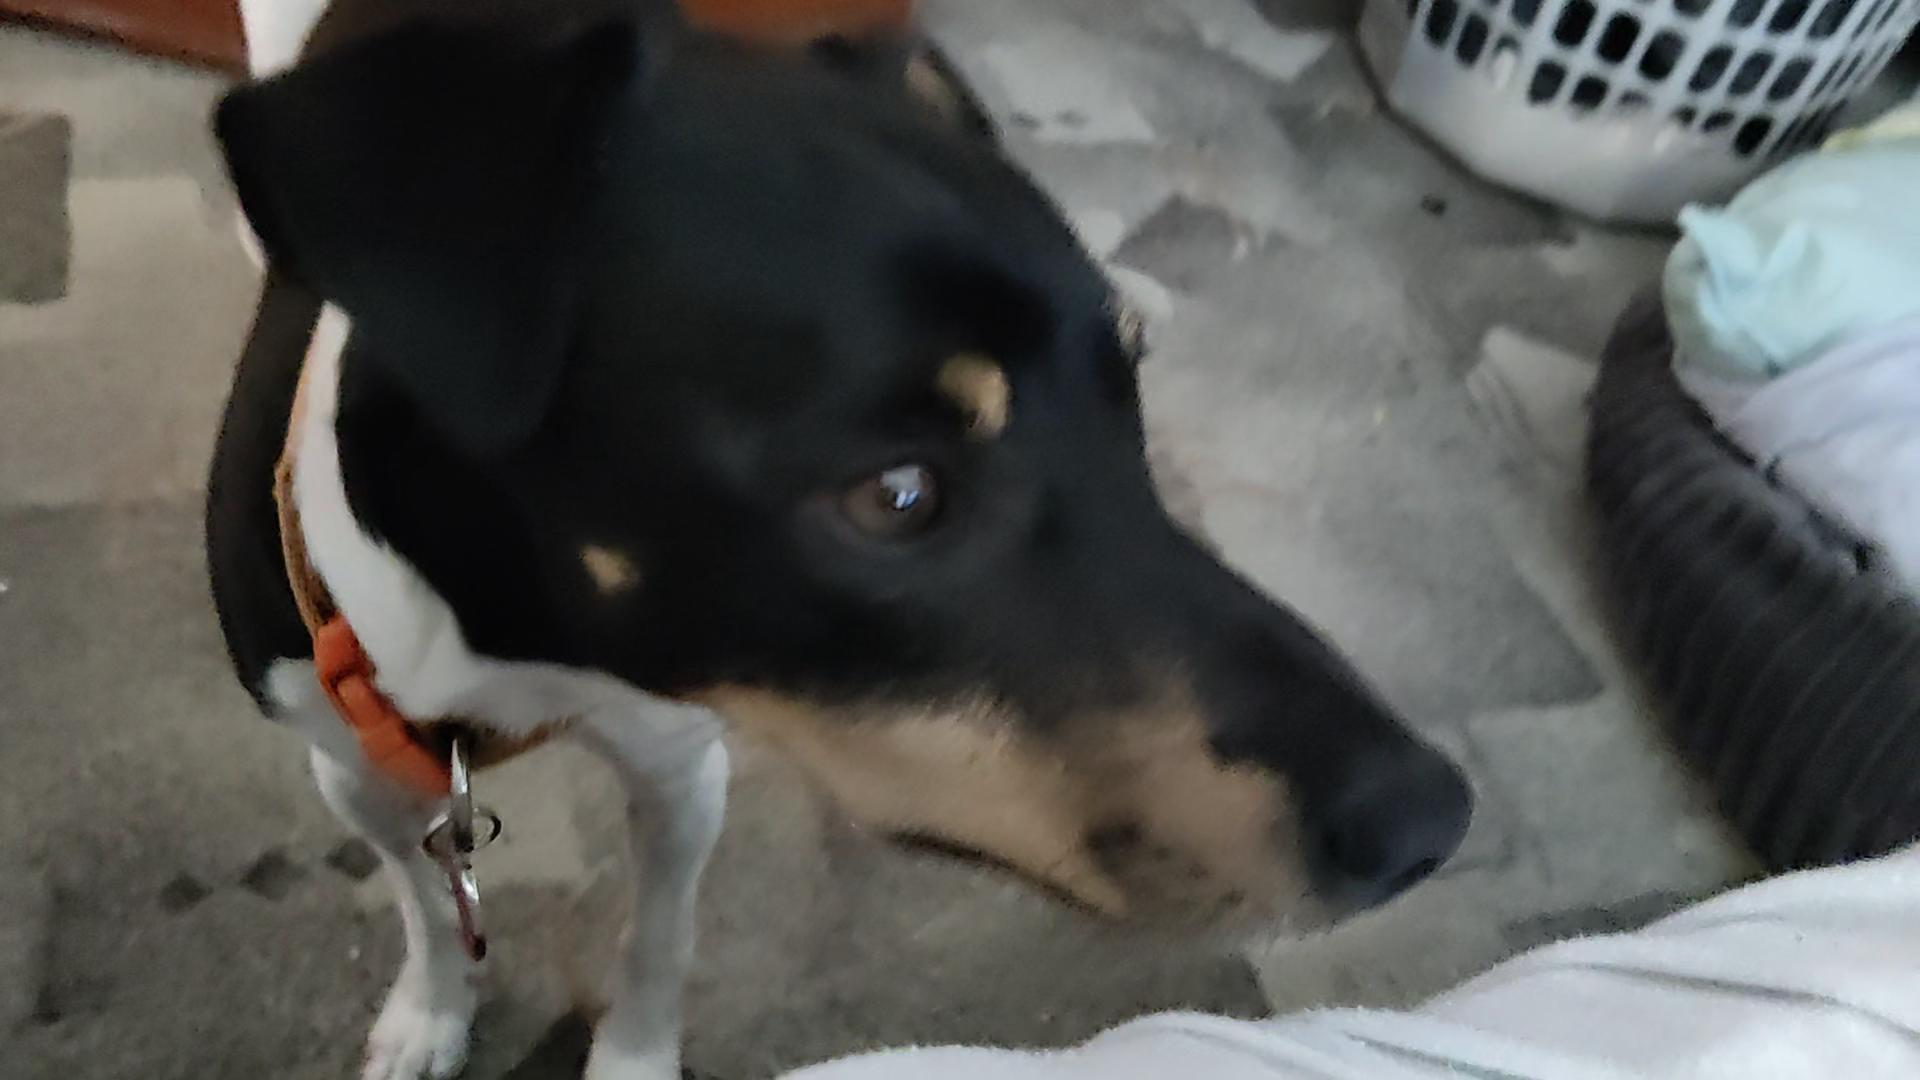Dog: (183, 0, 1491, 1080)
